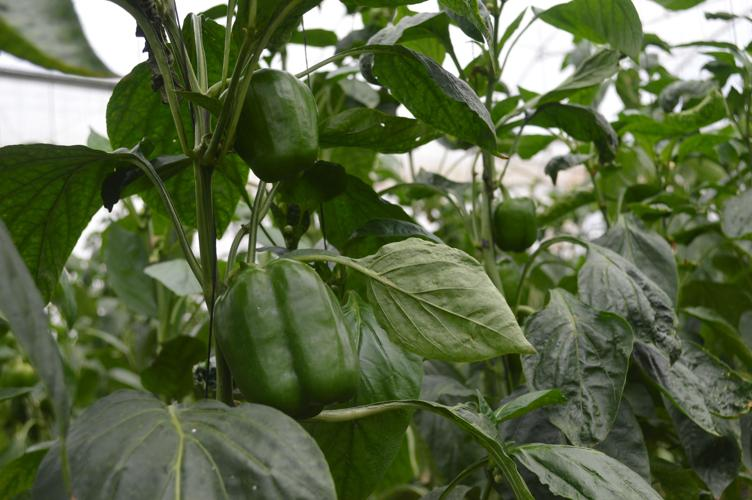BellPepper: (207, 262, 362, 424), (224, 73, 323, 188), (491, 192, 547, 266)
